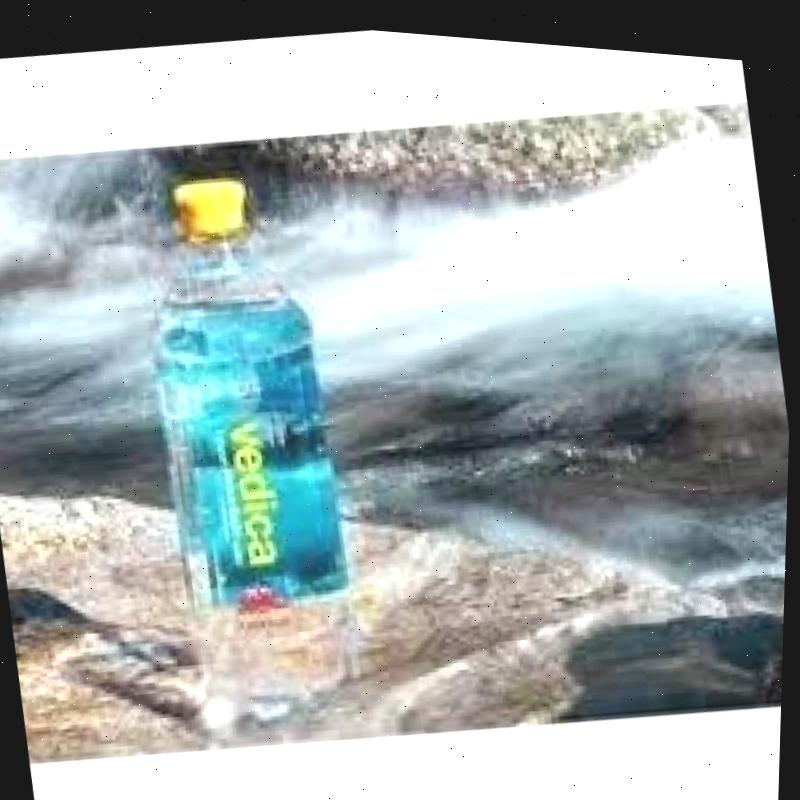botella: (118, 150, 383, 720)
